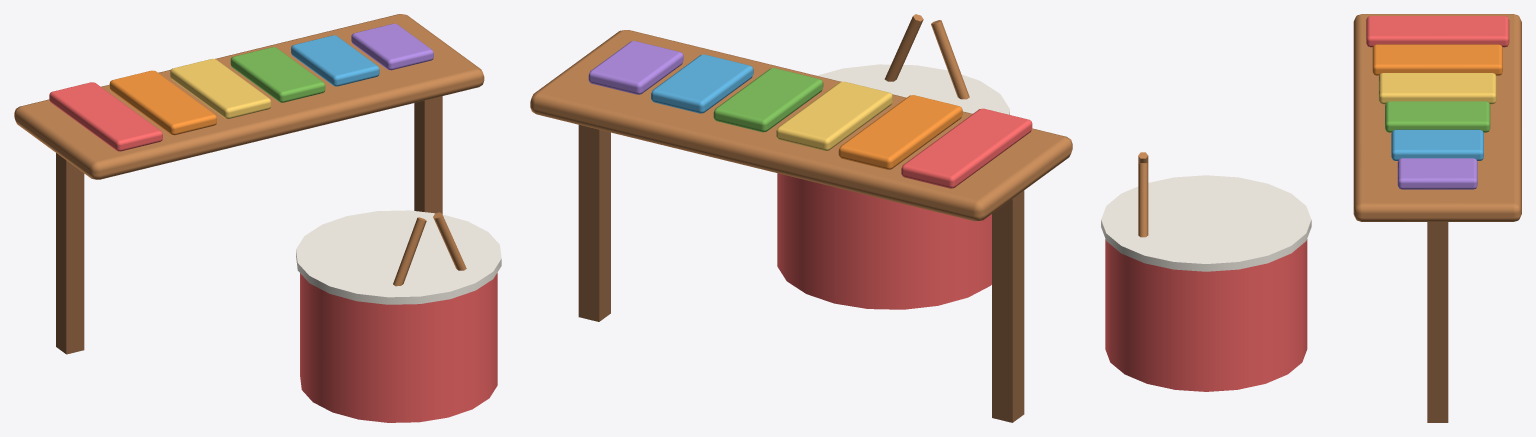
File: kpiano-drums.glb
The picture shows the model from 3 angles, left to right: view 1: azimuth 30°, elevation 25°; view 2: azimuth 150°, elevation 25°; view 3: azimuth 270°, elevation 25°; orthographic projection. The views are drawn at different scales.
Bounding box in the file's own units: 1.1 × 0.615 × 1.
